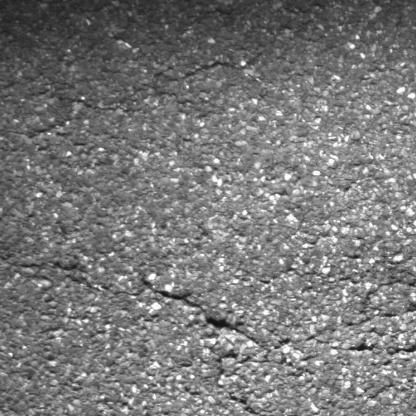Cracks: (135, 272, 416, 360), (0, 254, 101, 284), (223, 388, 299, 416)
